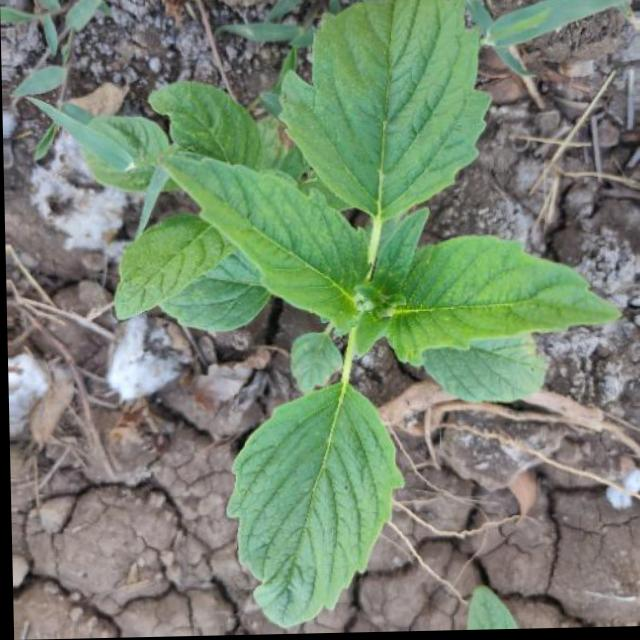crop: (125, 0, 631, 638)
